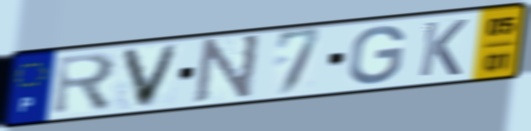7: (271, 25, 323, 100)
G: (345, 23, 408, 86)
K: (415, 17, 471, 79)
N: (190, 31, 264, 105)
R: (51, 50, 120, 118)
V: (118, 42, 185, 111)
